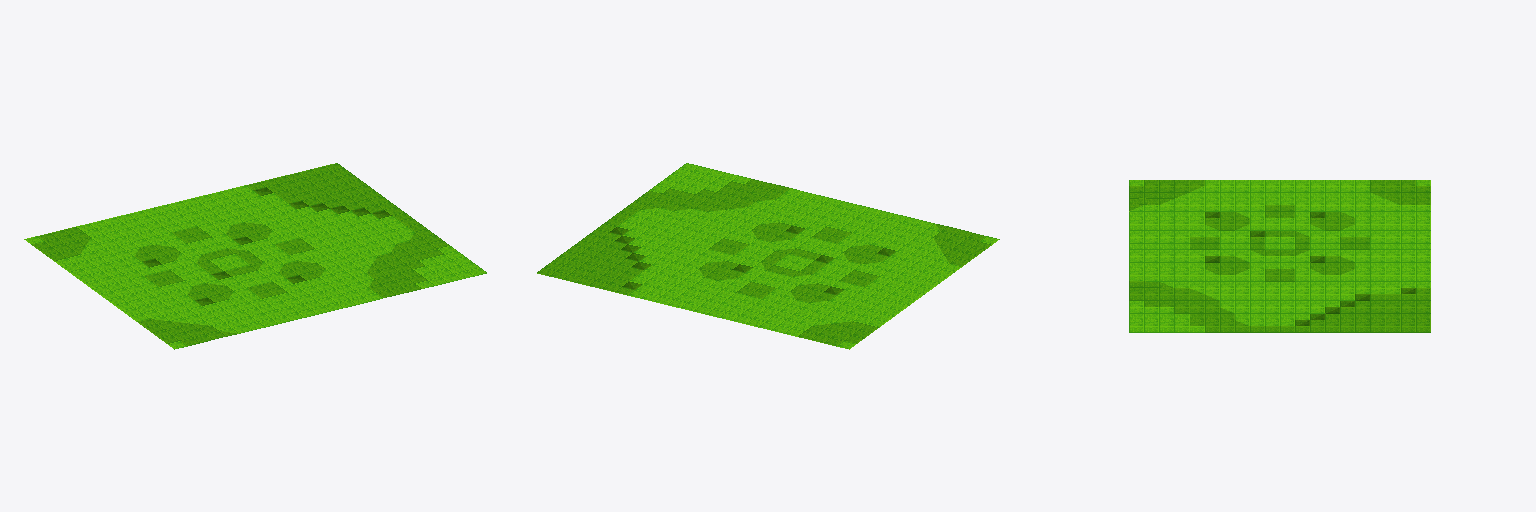
3 views of the same model, side by side, from view 1: azimuth 30°, elevation 25°; view 2: azimuth 150°, elevation 25°; view 3: azimuth 270°, elevation 25° (orthographic).
Parts seen in each view (by area): view 1: FloorSide_9; view 2: FloorSide_9; view 3: FloorSide_9.
Boxes of the visible parts, box(x1,y1,x2,y2) form: FloorSide_9: box(24, 163, 486, 349); FloorSide_9: box(537, 163, 999, 349); FloorSide_9: box(1129, 180, 1430, 332).
Size of the model in its own units: 24 by 0.0372 by 20.
6 materials, 6 textured.